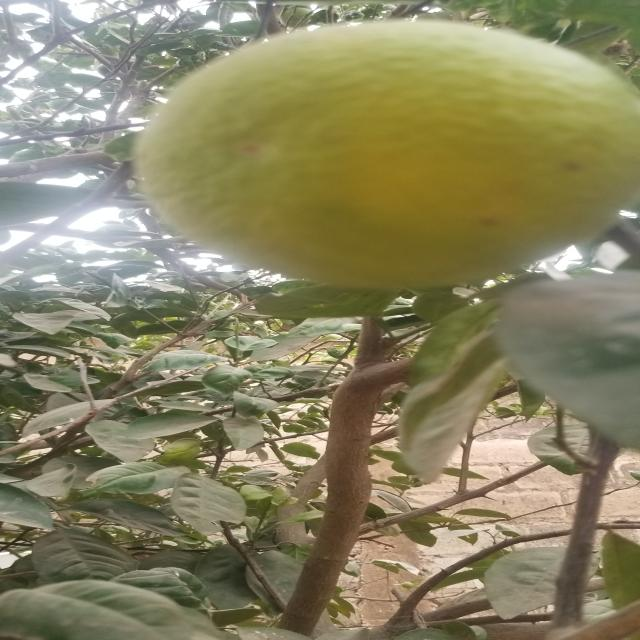Unripe: (117, 11, 640, 300)
